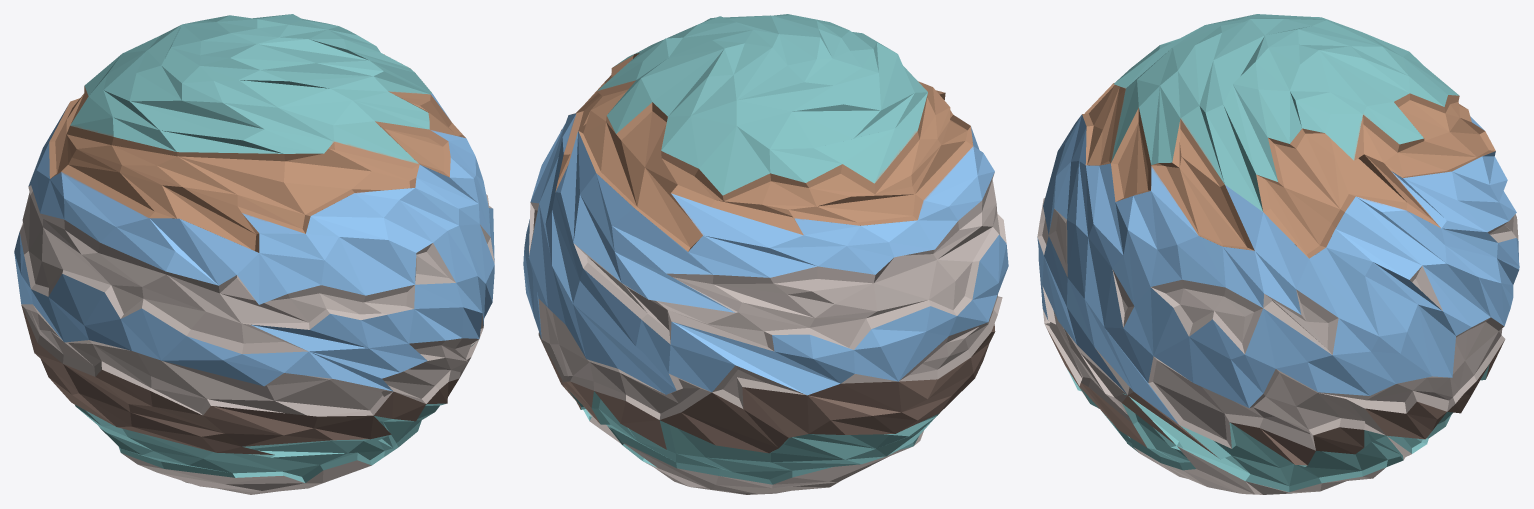
Rendered from Jupiter.obj.
3 views of the same model, side by side, from view 1: azimuth 30°, elevation 25°; view 2: azimuth 150°, elevation 25°; view 3: azimuth 270°, elevation 25° (orthographic).
Parts seen in each view (by area): view 1: Jupiter; view 2: Jupiter; view 3: Jupiter.
Boxes of the visible parts, <box> form: Jupiter: <box>14,14,494,494</box>; Jupiter: <box>523,14,1008,494</box>; Jupiter: <box>1037,14,1519,494</box>.
Bounding box in the file's own units: 35.11 × 35.37 × 35.21.
1 material, 1 textured.
